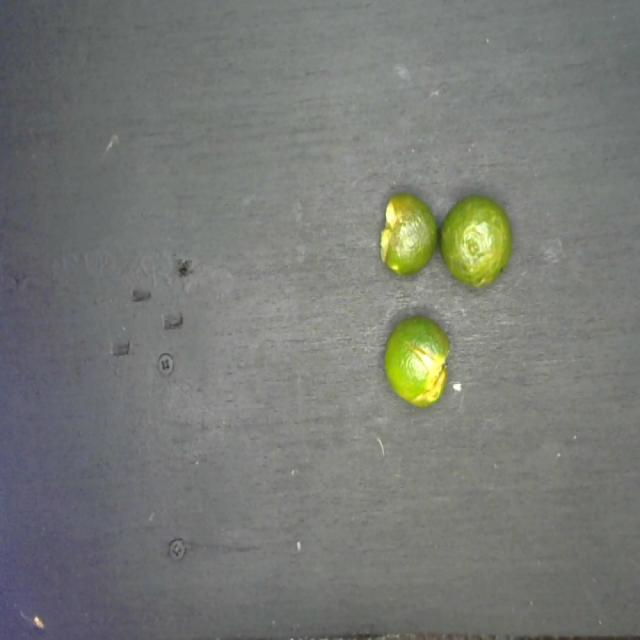biodegradable: (371, 176, 517, 422)
